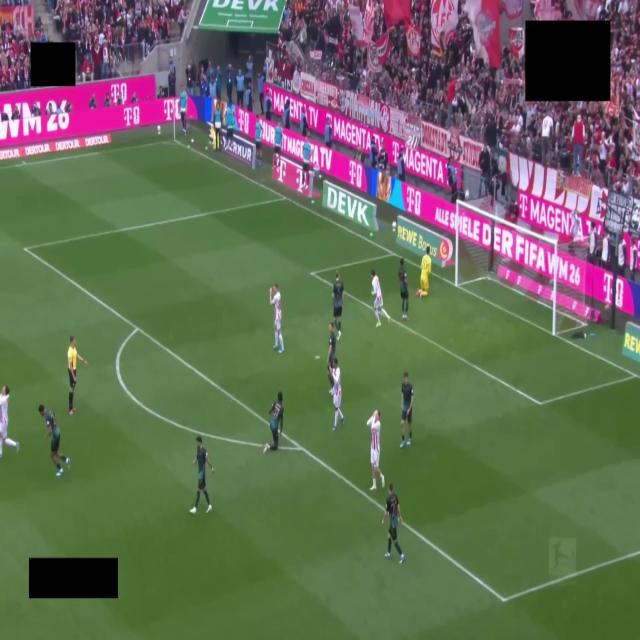player: (39, 405, 70, 476), (190, 437, 214, 514), (383, 484, 404, 563), (367, 410, 384, 490), (0, 386, 18, 458), (263, 392, 283, 454), (371, 270, 390, 327), (270, 285, 284, 353), (401, 372, 413, 447), (332, 359, 343, 431), (416, 245, 431, 297), (332, 272, 343, 340), (327, 323, 336, 394), (398, 258, 408, 321)
referee: (68, 336, 87, 414)
